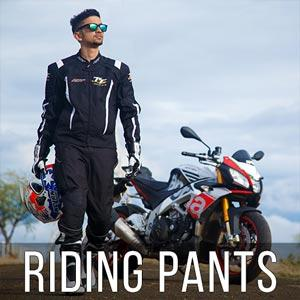helmet: (23, 163, 65, 224)
nohelmet: (72, 9, 108, 50)
